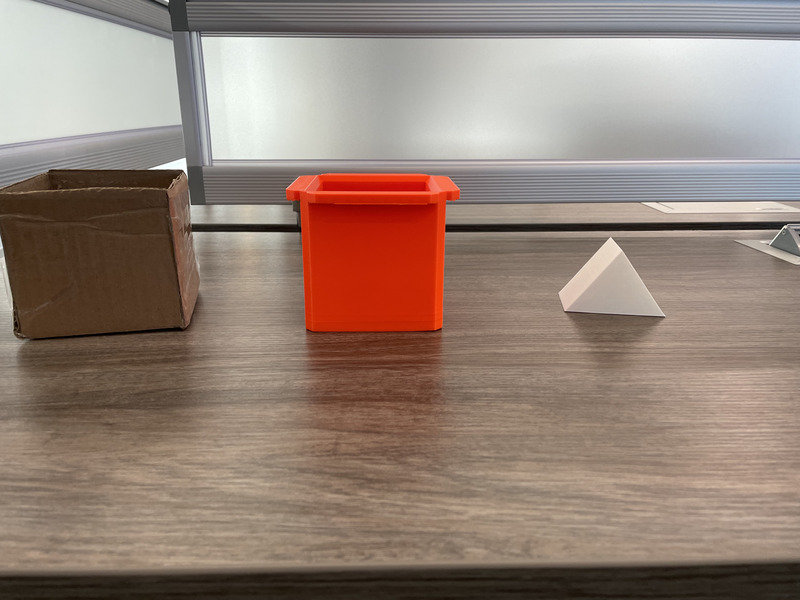payload1: (280, 166, 472, 343)
payload2: (552, 228, 675, 330)
payload3: (1, 162, 208, 349)
